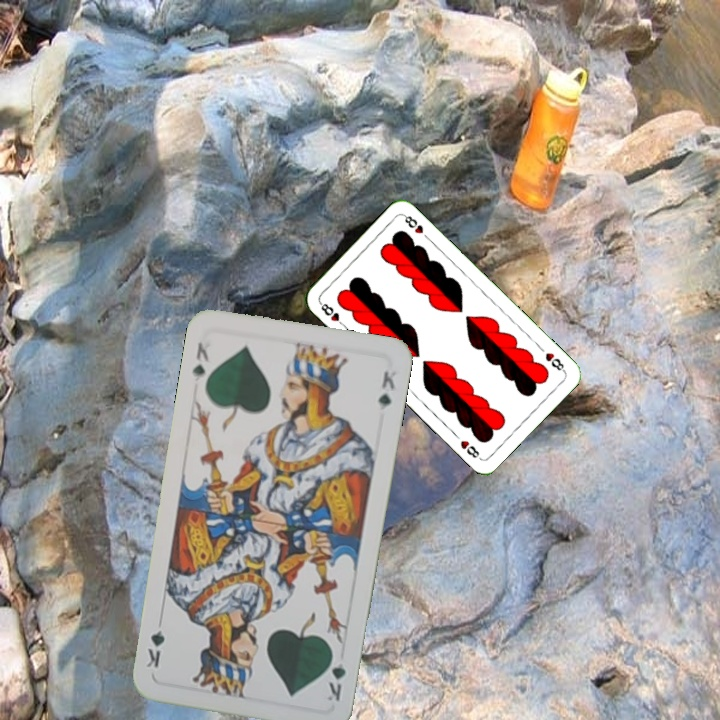GK: (323, 646, 349, 704), (188, 337, 211, 379)
H8: (315, 298, 348, 330), (541, 348, 568, 374)
